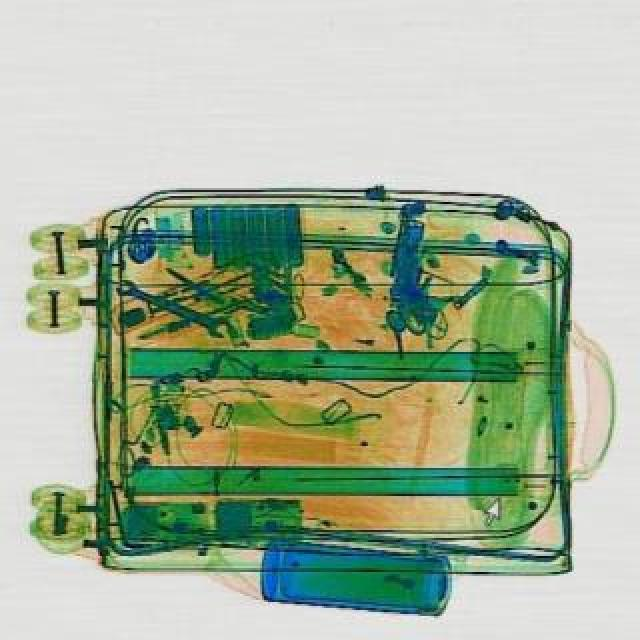scissors: (114, 272, 240, 340)
